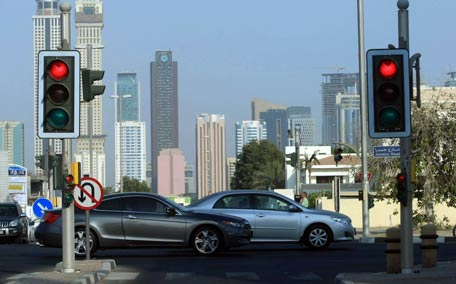red: (36, 50, 80, 139), (366, 49, 409, 137), (63, 173, 75, 205), (396, 173, 409, 202)
